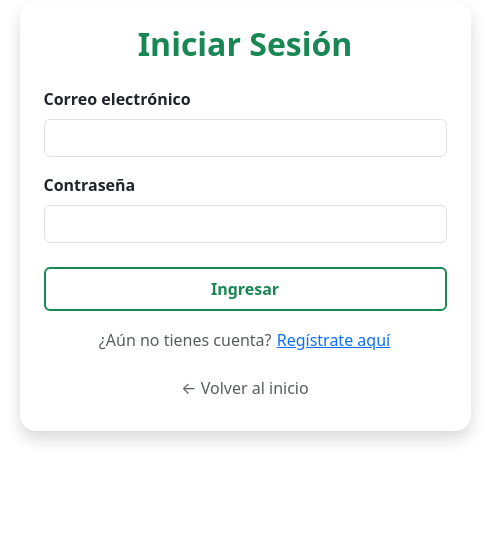
it: Login › muestra un mensaje cuando las credenciales son rechazadas
This screenshot has width=492, height=558.
Type "incorrecto@correo.cl" into the field labelled "Correo electrónico".
click(245, 138); type("incorrecto@correo.cl")  # box [44,119,446,157]
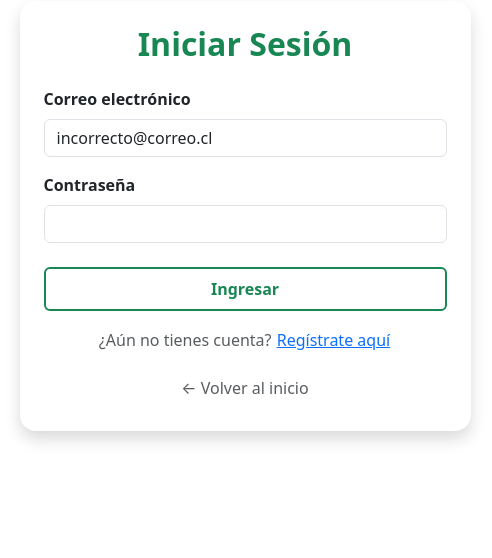
Type "incorrecta" into the password field labelled "Contraseña".
click(245, 224); type("incorrecta")  # box [44,205,446,243]
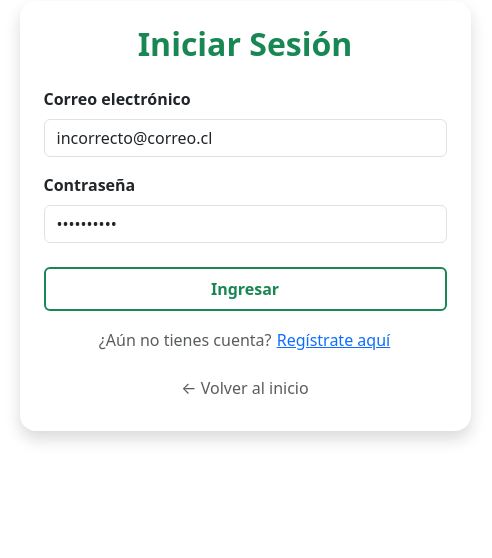
Click the button "Ingresar".
click(245, 289)  # box [44,267,446,311]
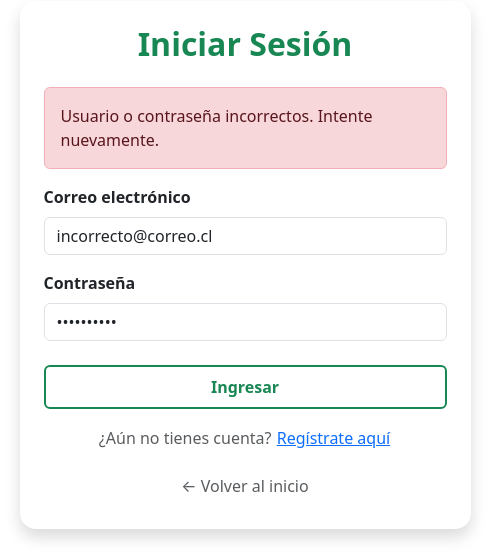
Check: the text "Usuario o contraseña incorrectos. Intente nuevamente." is shown, box [44,87,446,169]
